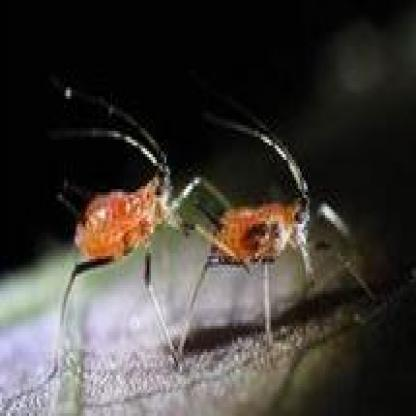aphid: (46, 100, 210, 374), (182, 112, 353, 339)
